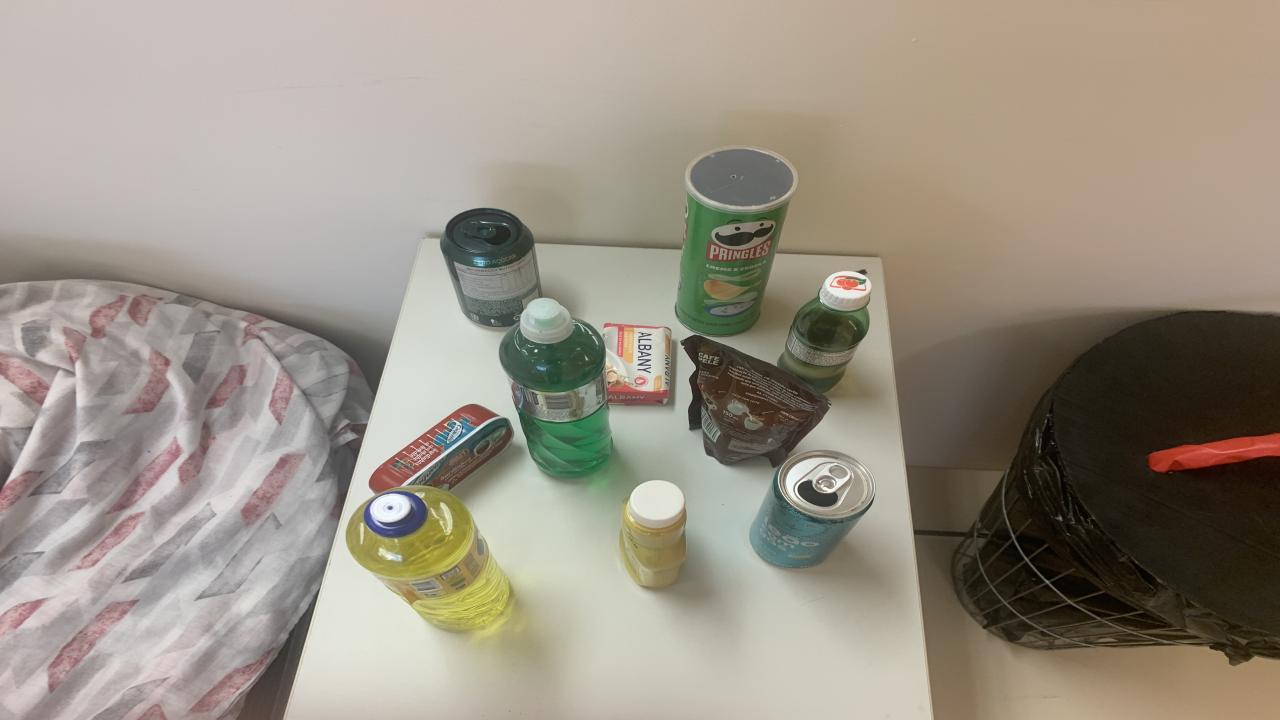Coffee-Pantry_Items: (680, 336, 830, 467)
Detergent-Cleanup_Items: (345, 486, 510, 630), (500, 298, 612, 476)
Guarana-Drinks: (778, 270, 872, 392)
Guarana_Can-Drinks: (440, 208, 540, 328)
Mustard-Pantry_Items: (620, 480, 685, 587)
Pringles-Snacks: (675, 146, 798, 336)
Soap-Cleanup_Items: (602, 324, 670, 405)
Tea-Drinks: (750, 450, 875, 568)
Tuna_Can-Pantry_Items: (368, 403, 512, 493)
